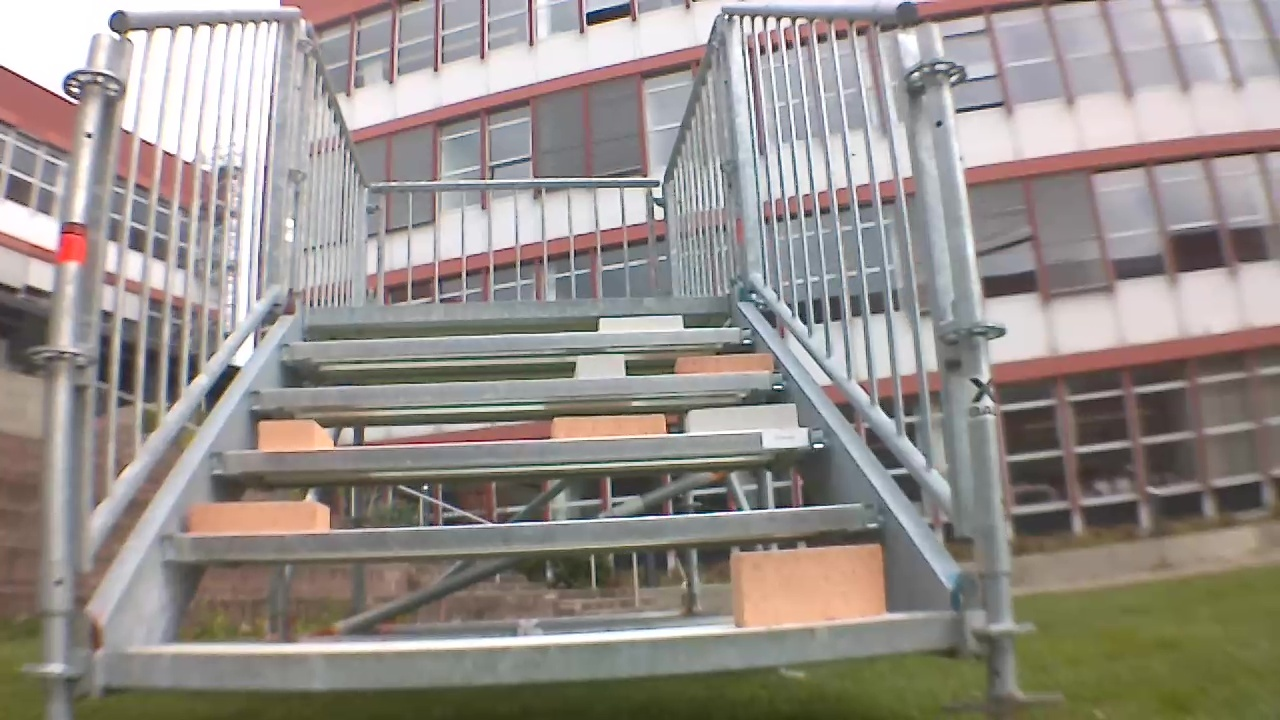brick: (730, 543, 881, 626), (192, 500, 328, 534), (691, 403, 795, 432), (552, 415, 664, 437), (259, 419, 334, 449), (674, 352, 771, 372), (599, 315, 683, 332), (574, 354, 622, 378)
edge: (106, 615, 954, 690), (161, 503, 879, 556), (209, 427, 827, 469), (248, 371, 783, 406), (277, 327, 754, 357), (308, 295, 728, 322)
stairs: (25, 7, 1031, 717)
steps: (101, 290, 958, 700)
